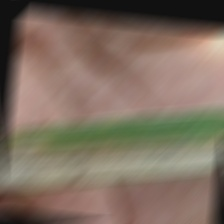Leaf_Blast: (37, 133, 224, 184)
